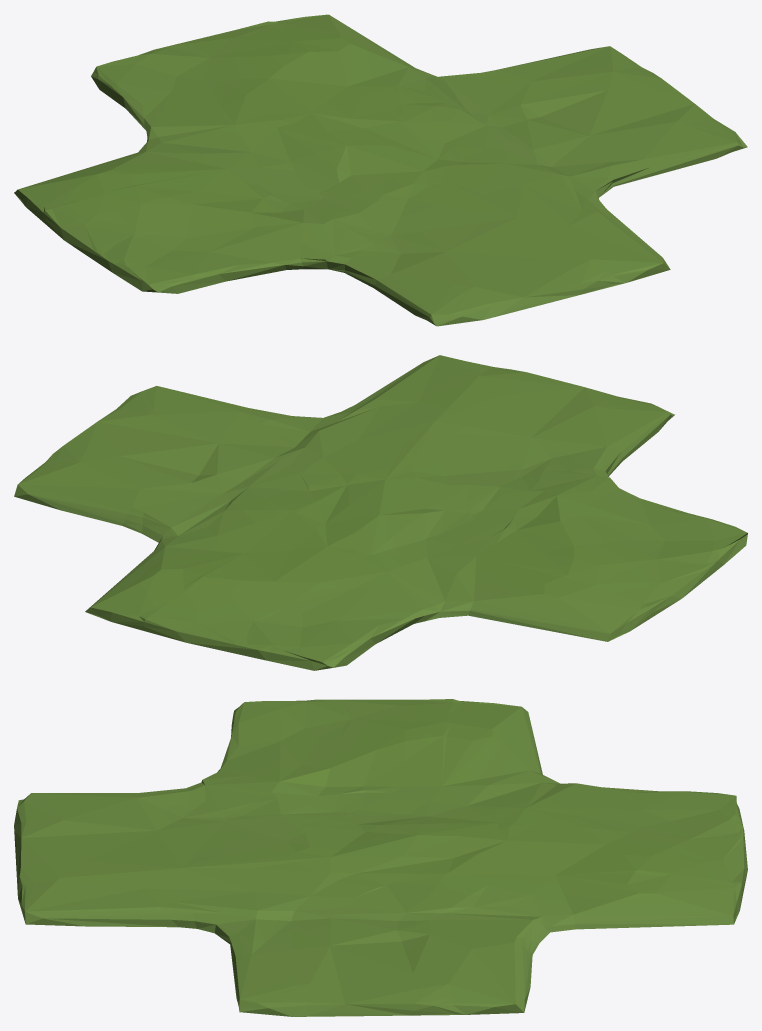
File: MudRoad_03.fbx
3 renders of one model, top to bottom at view 1: azimuth 30°, elevation 25°; view 2: azimuth 150°, elevation 25°; view 3: azimuth 270°, elevation 25°, orthographic. The views are drawn at different scales.
Parts seen in each view (by area): view 1: MudRoad_03; view 2: MudRoad_03; view 3: MudRoad_03.
Boxes of the visible parts, x1,y1,x2,y2 form: MudRoad_03: (14, 14, 747, 326); MudRoad_03: (14, 355, 747, 670); MudRoad_03: (14, 699, 747, 1016).
Bounding box in the file's own units: 8.5 × 0.2757 × 8.5.
